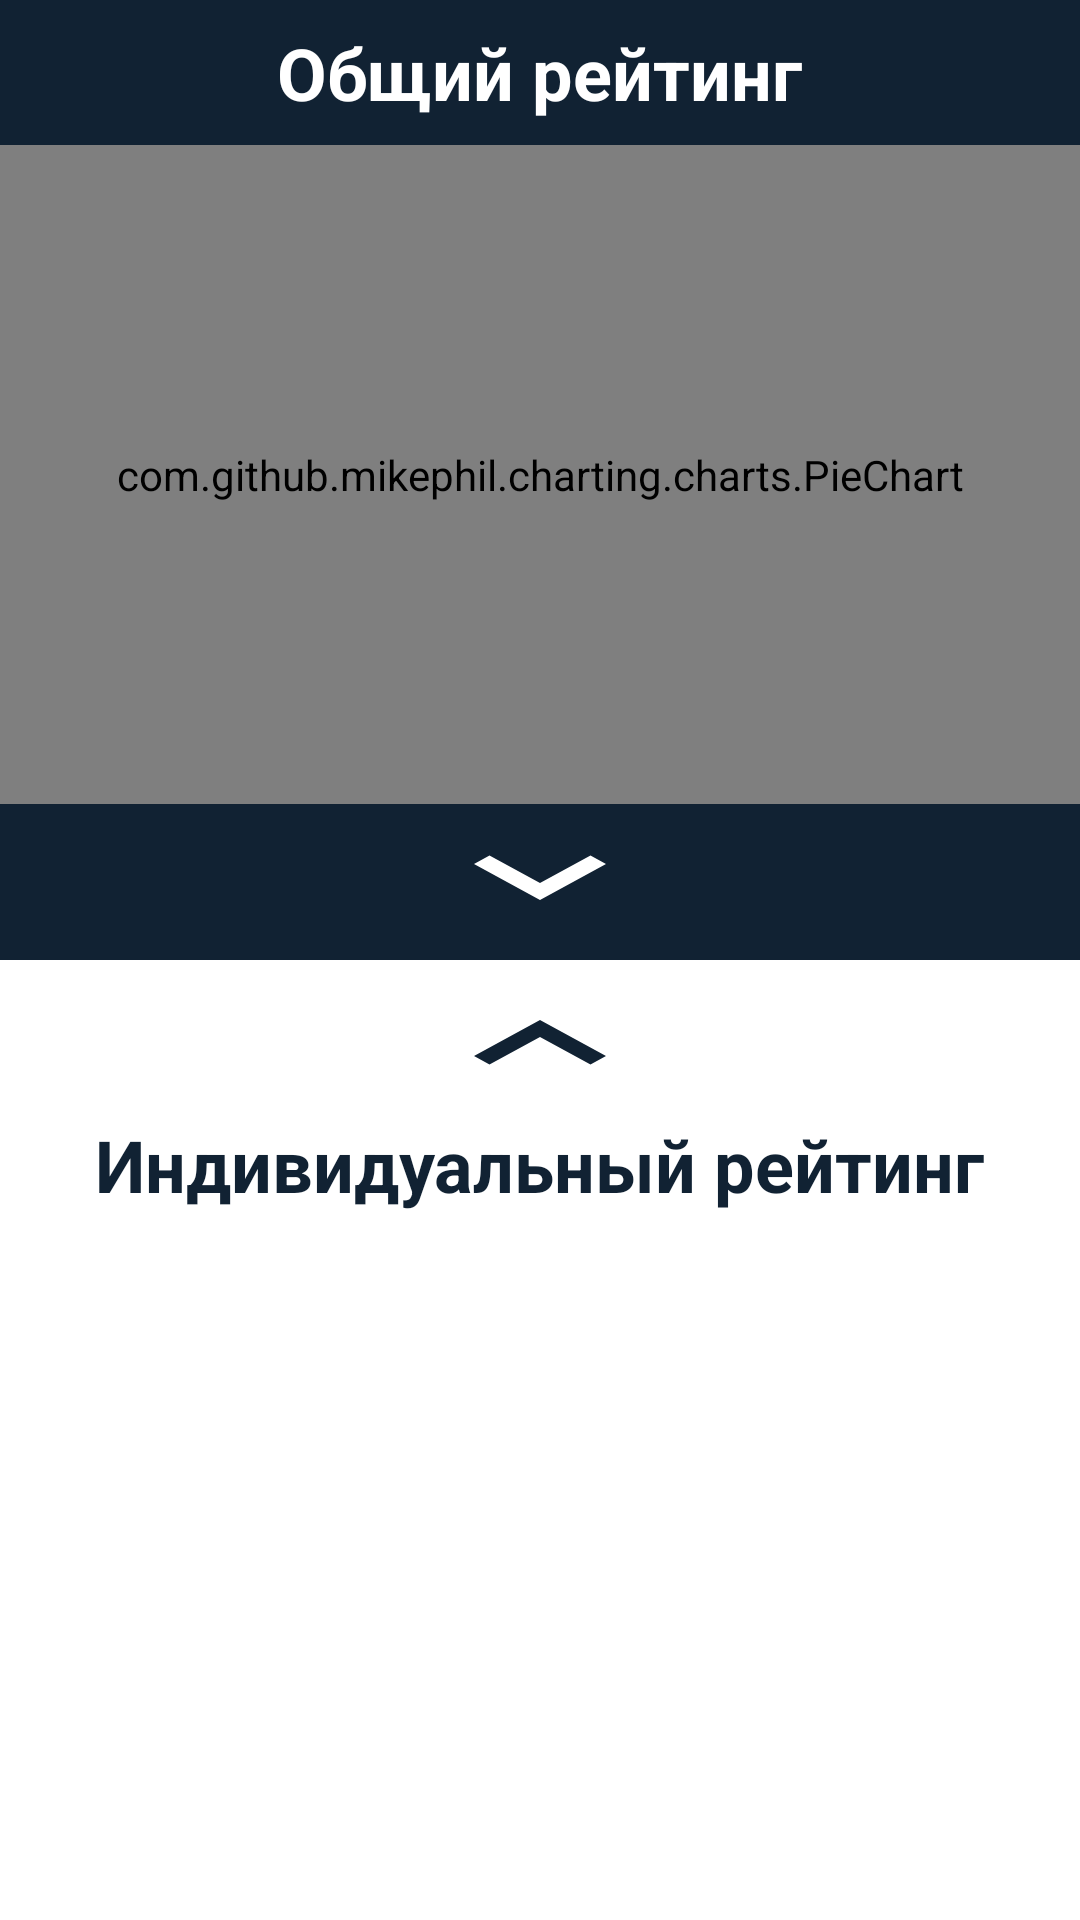

Icon click points for this 1080 × 1920 phone screenshot, format (x=x, y=y):
expand less: (x=540, y=1042)
expand more: (x=540, y=877)
